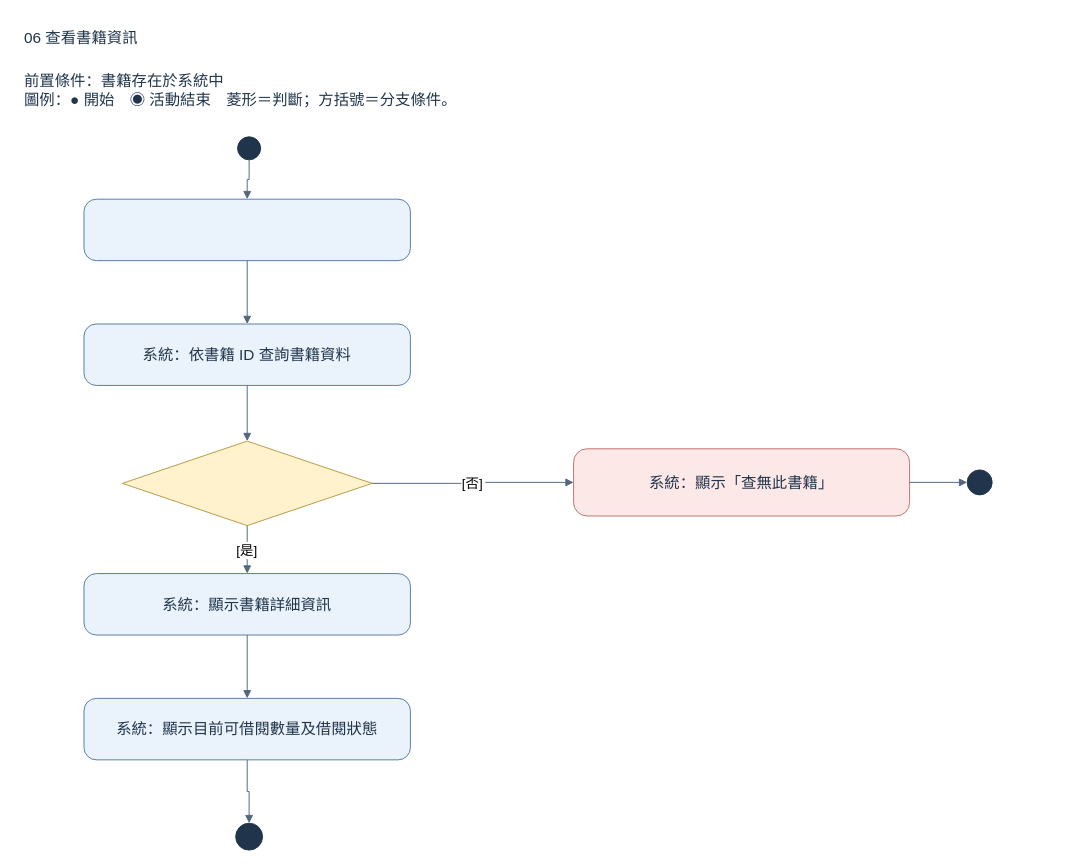
The diagram is 1069 pixels wide and 867 high, and some of its shapes have lost their labels. The box of each missing label's shape, as (x1, y1, x2, y2) in pixels:
使用者：從書籍列表選擇書籍: (83, 198, 410, 261)
系統：書籍存在？: (121, 440, 372, 526)
